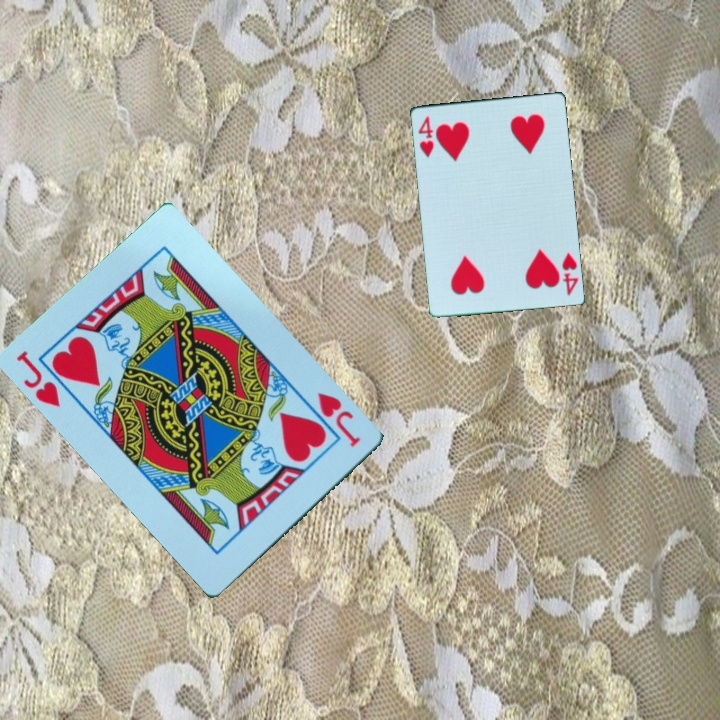4h: (558, 249, 581, 298), (414, 112, 436, 161)
Jh: (13, 347, 64, 411), (314, 389, 364, 451)
